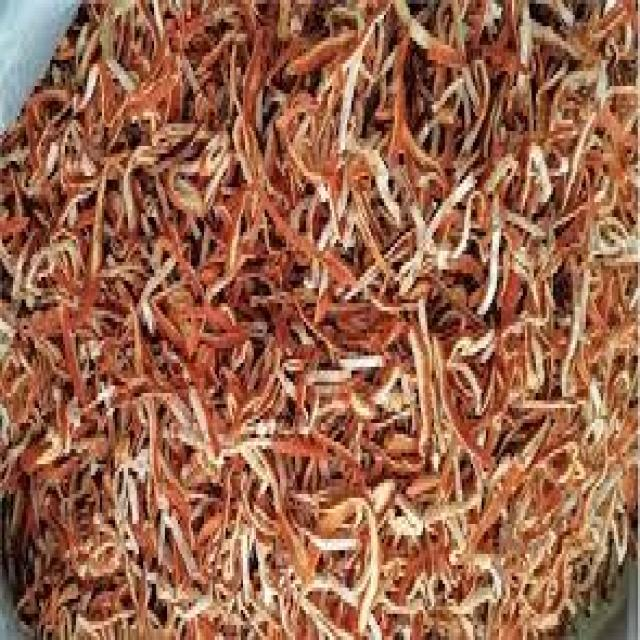Cascara de naranja: (120, 52, 594, 600)
